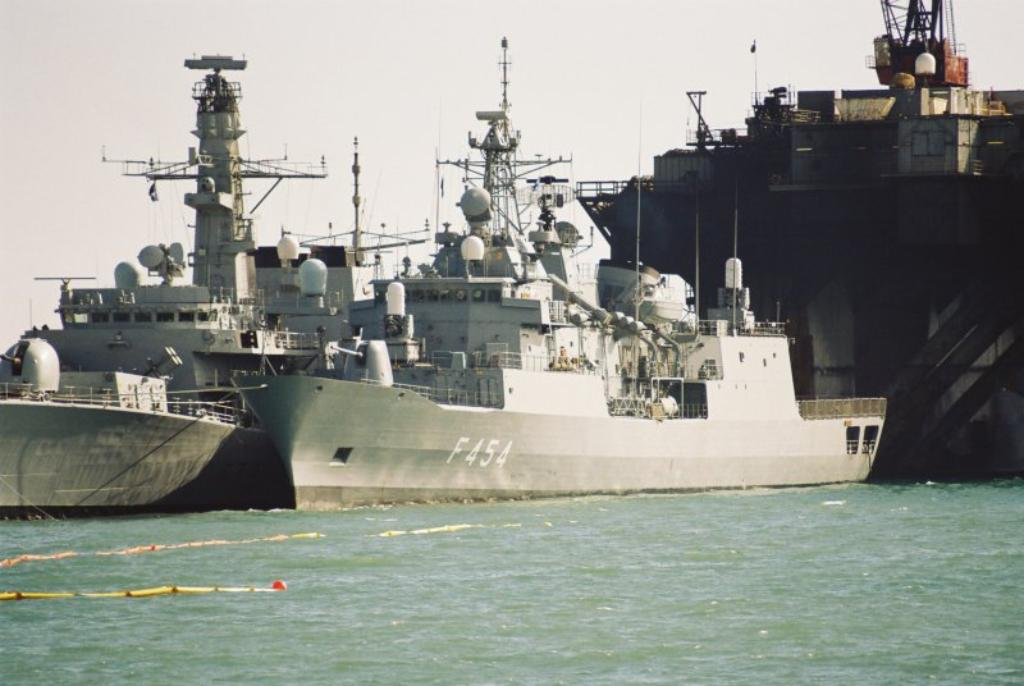Warship: (238, 39, 886, 510), (0, 27, 440, 522)
